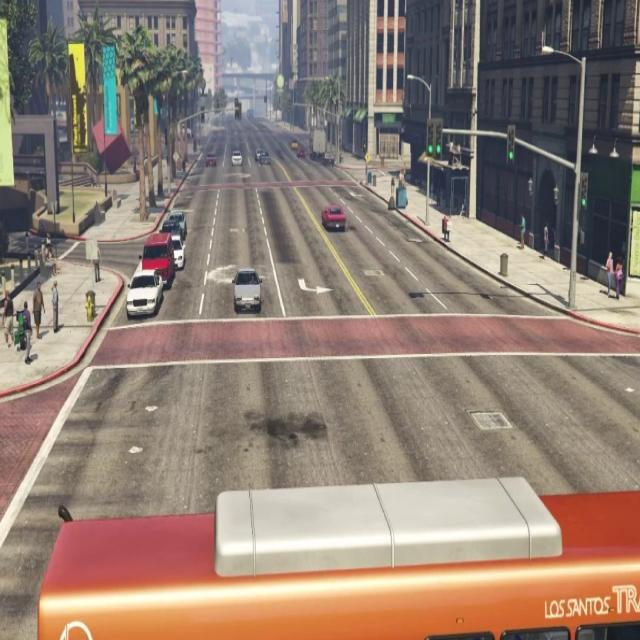Green-Signal: (426, 110, 446, 170), (577, 163, 594, 221), (505, 118, 518, 176)
